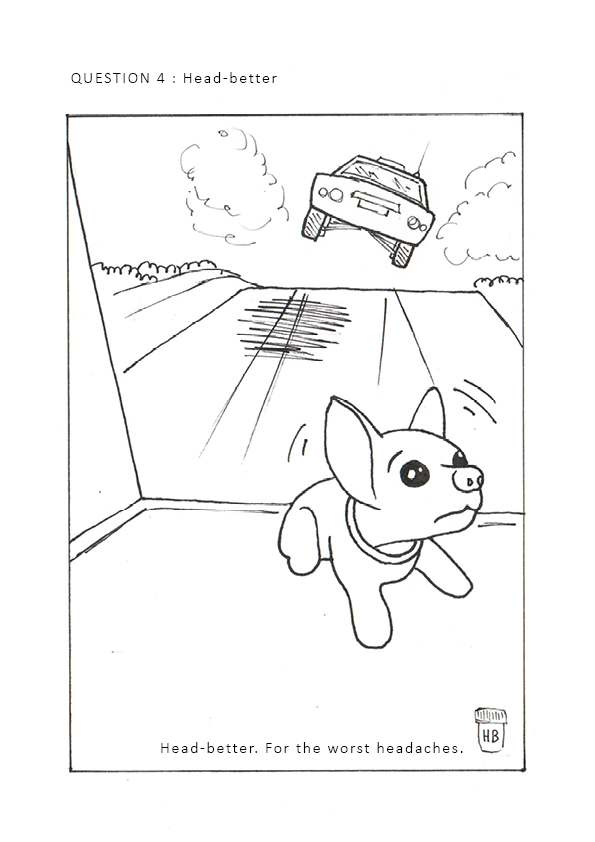car: (260, 150, 410, 250)
